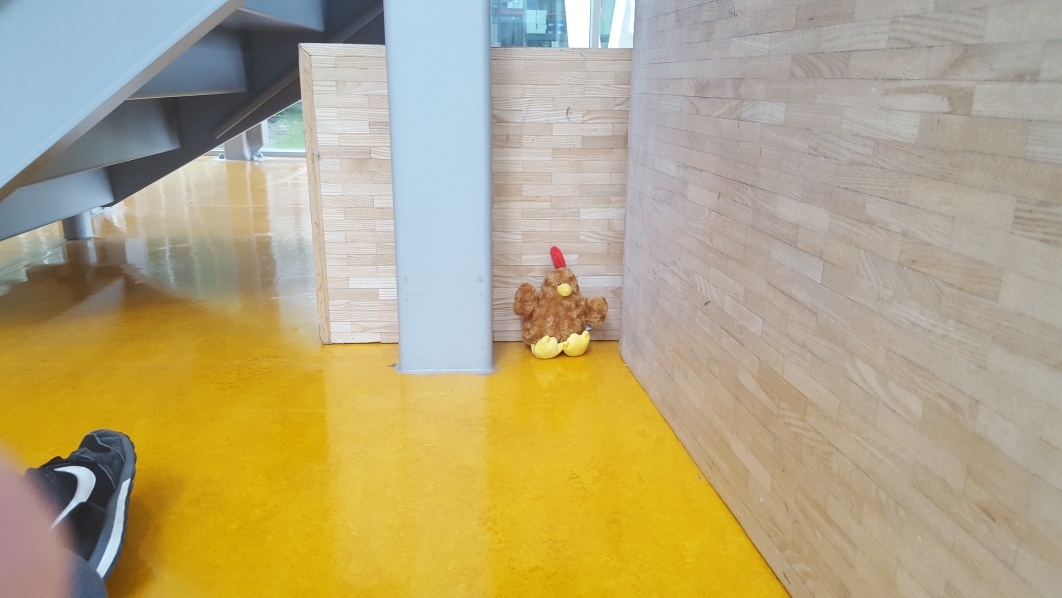chicken: (513, 248, 609, 360)
